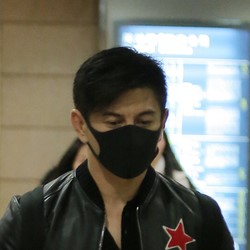mask: (73, 120, 161, 181)
